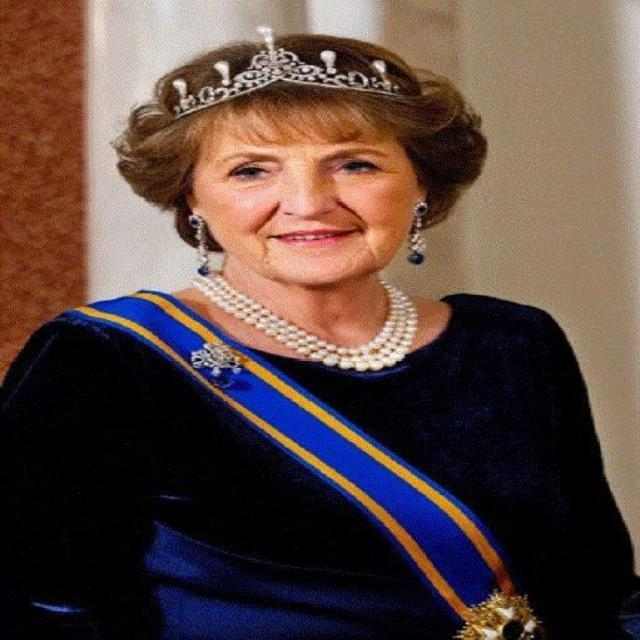Earring: (408, 190, 434, 279), (190, 205, 214, 278)
